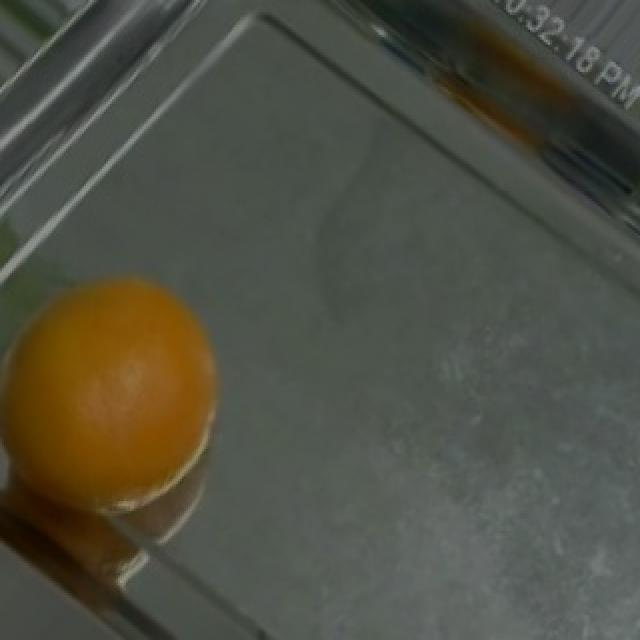Fruit: (0, 245, 244, 536)
